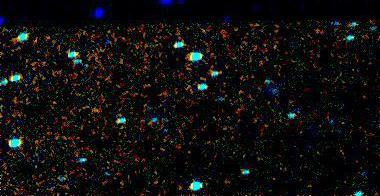star: (80, 96, 110, 126)
